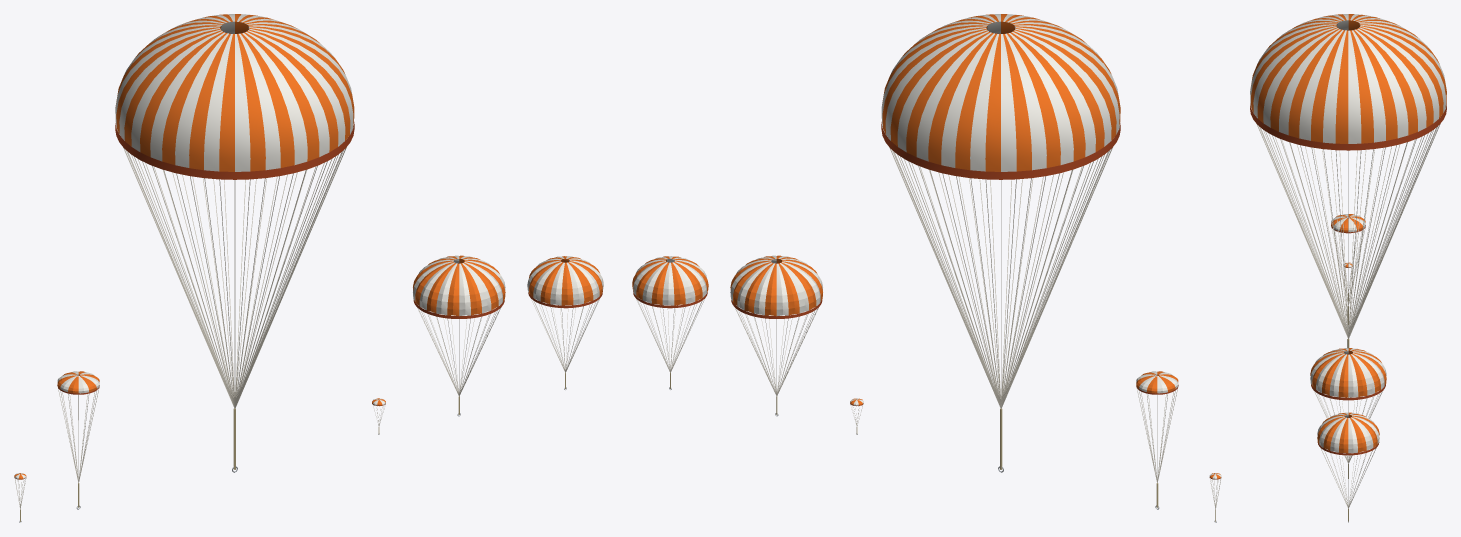
File: vostok-chutes.glb
The picture shows the model from 3 angles, left to right: view 1: azimuth 30°, elevation 25°; view 2: azimuth 150°, elevation 25°; view 3: azimuth 270°, elevation 25°; orthographic projection. The views are drawn at different scales.
Visible parts, largest first — view 1: foil (×4), body (×4); view 2: foil (×4), body (×4); view 3: foil (×4), body (×4).
Part boxes in pixels (x1,y1,x2,y2): foil (×4): (57, 14, 603, 393); body (×4): (57, 31, 602, 509); foil (×4): (632, 14, 1178, 393); body (×4): (633, 31, 1178, 509); foil (×4): (1250, 14, 1446, 453); body (×4): (1250, 27, 1446, 522).
Size of the model in its own units: 50.4 by 36.72 by 17.9.
